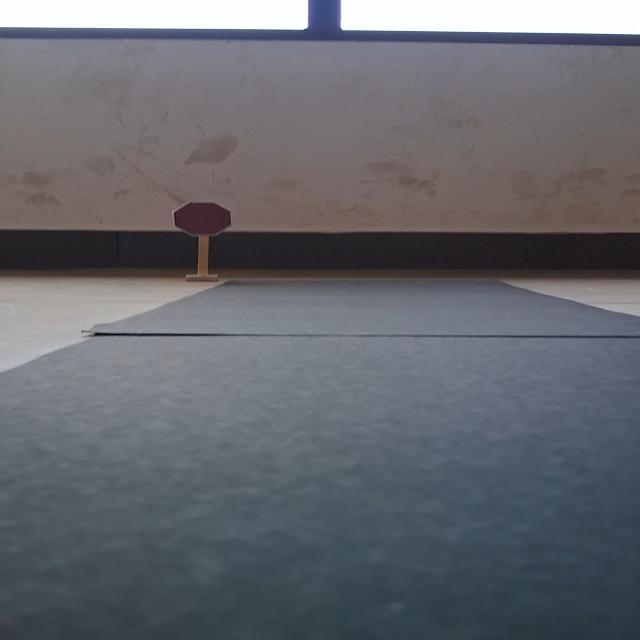Stop: (171, 201, 232, 237)
